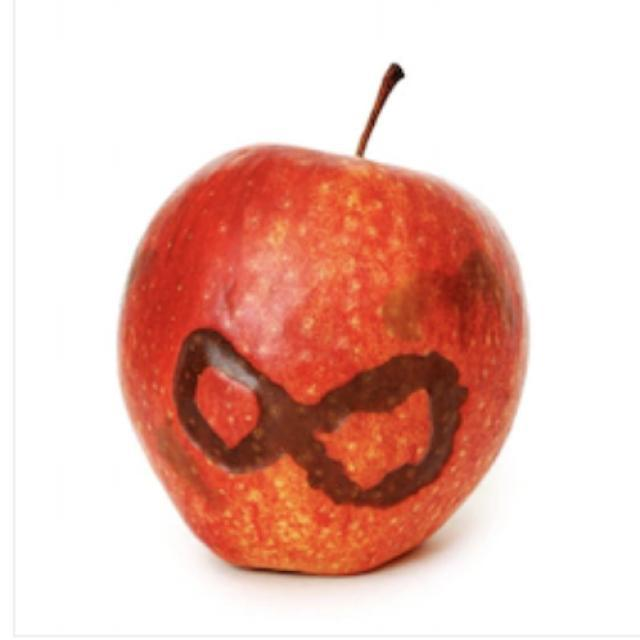Rotten: (134, 144, 494, 558)
